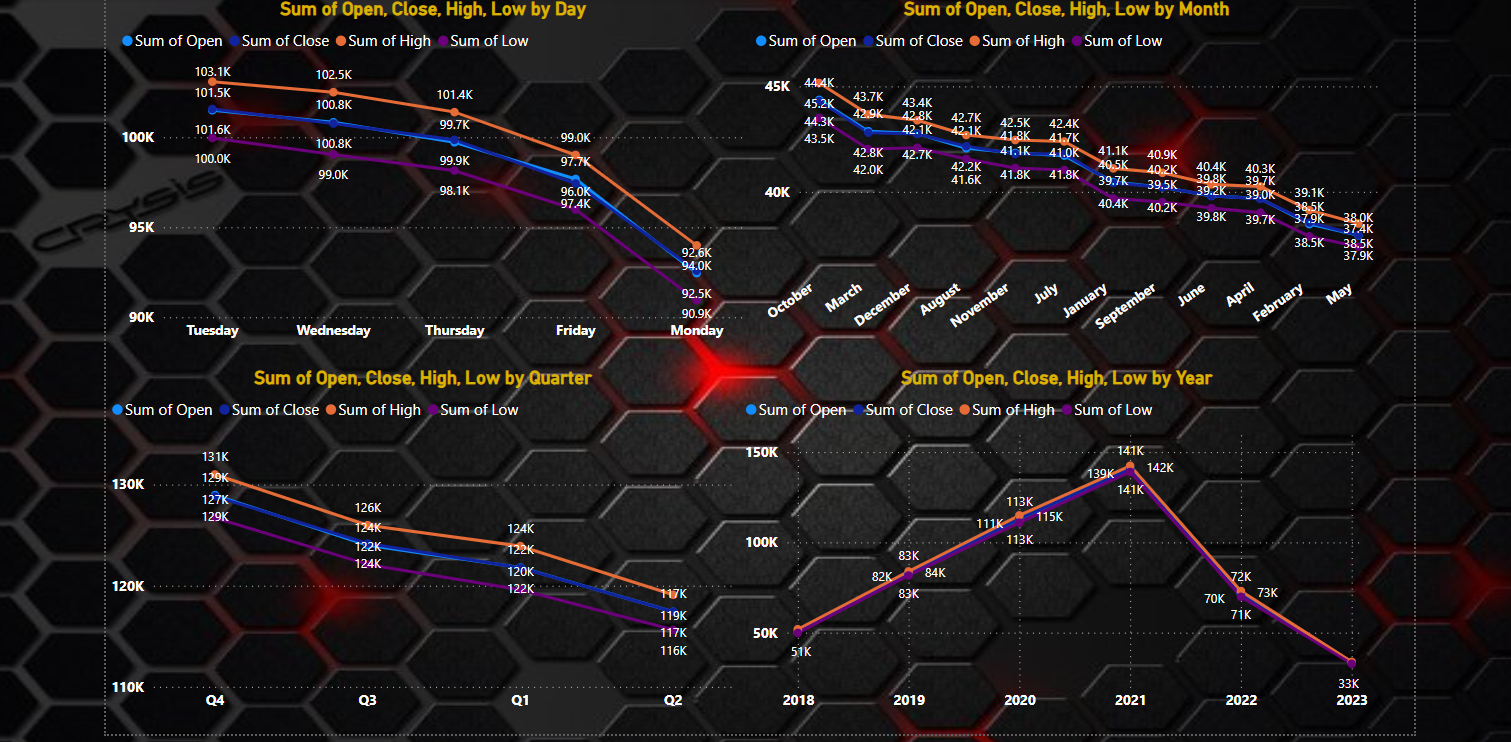

The page's visual inventory and layout, read from the dashboard file:
{"tool":"powerbi","page":{"name":"Page 2","canvas":[1280,720],"ordinal":1},"visuals":[{"type":"lineChart","title":"Sum of Open, Close, High, Low by Day","fields":{"Category":["Netflix Stock Market.Day"],"Y":["Sum(Netflix Stock Market.Open)","Sum(Netflix Stock Market.Close)","Sum(Netflix Stock Market.High)","Sum(Netflix Stock Market.Low)"]},"box":[9.8,0,620,344],"z":0},{"type":"lineChart","title":"Sum of Open, Close, High, Low by Month","fields":{"Y":["Sum(Netflix Stock Market.Open)","Sum(Netflix Stock Market.Close)","Sum(Netflix Stock Market.High)","Sum(Netflix Stock Market.Low)"],"Category":["Netflix Stock Market.Month"]},"box":[629.5,0,619.8,344.7],"z":1},{"type":"lineChart","title":"Sum of Open, Close, High, Low by Quarter","fields":{"Y":["Sum(Netflix Stock Market.Open)","Sum(Netflix Stock Market.Close)","Sum(Netflix Stock Market.High)","Sum(Netflix Stock Market.Low)"],"Category":["Netflix Stock Market.Quarter"]},"box":[0,360.6,619.8,344.7],"z":2},{"type":"lineChart","title":"Sum of Open, Close, High, Low by Year","fields":{"Y":["Sum(Netflix Stock Market.Open)","Sum(Netflix Stock Market.Close)","Sum(Netflix Stock Market.High)","Sum(Netflix Stock Market.Low)"],"Category":["Netflix Stock Market.Year"]},"box":[619.8,360.6,619.8,344.7],"z":3}]}

Visuals, with their boxes on the page's 1280x720 design canvas (x1, y1, x2, y2). These are canvas units, not pixel positions in the 1511x742 screenshot, which may show the page scaled, cropped or inside an application window:
"Sum of Open, Close, High, Low by Day" lineChart: {"left": 10, "top": 0, "right": 630, "bottom": 344}
"Sum of Open, Close, High, Low by Month" lineChart: {"left": 630, "top": 0, "right": 1249, "bottom": 345}
"Sum of Open, Close, High, Low by Quarter" lineChart: {"left": 0, "top": 361, "right": 620, "bottom": 705}
"Sum of Open, Close, High, Low by Year" lineChart: {"left": 620, "top": 361, "right": 1240, "bottom": 705}
